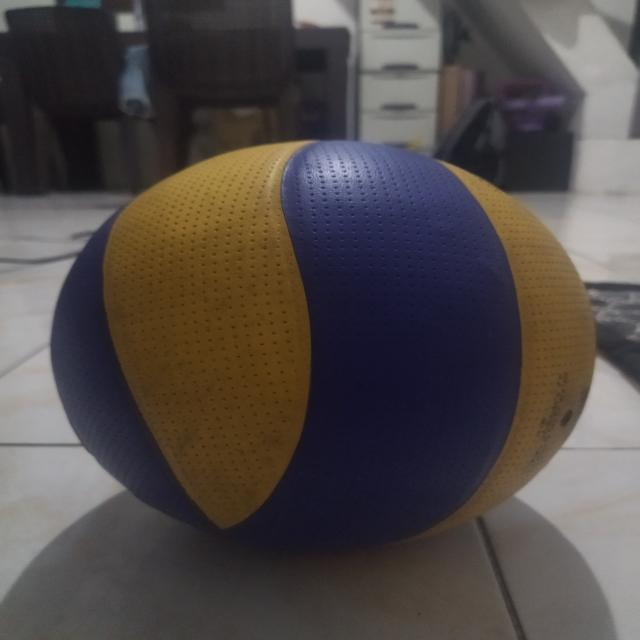Volleyball: (53, 137, 598, 558)
